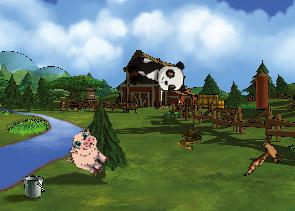eagle: (243, 129, 287, 182)
panda: (124, 55, 187, 93)
pig: (60, 125, 116, 181)
